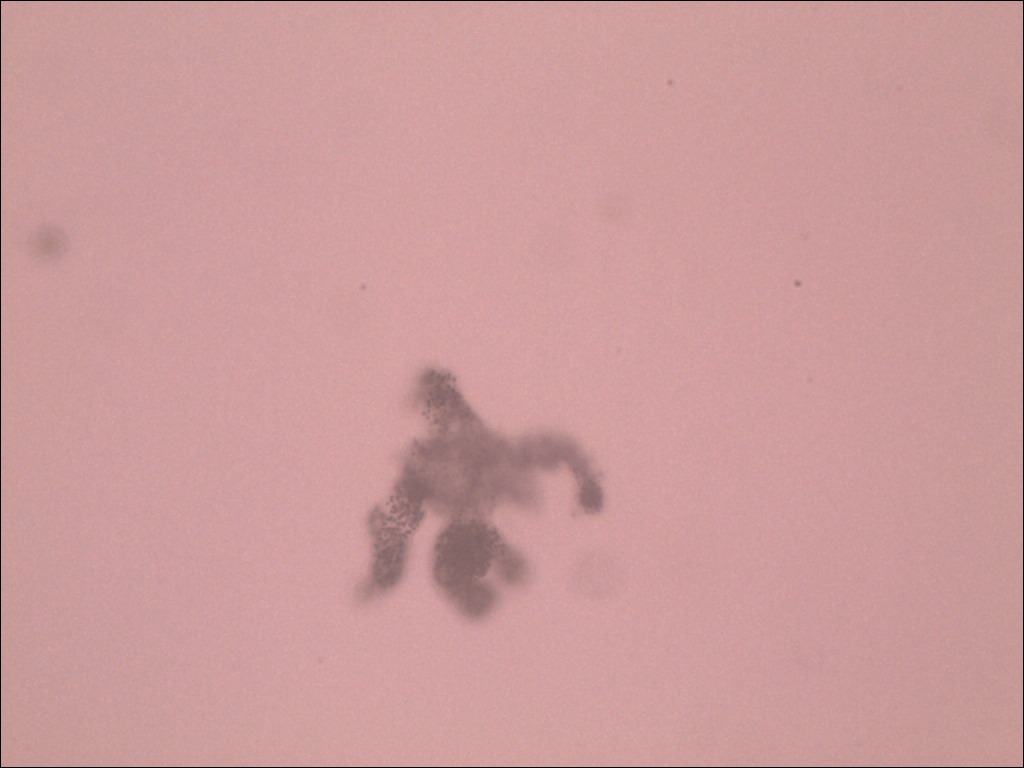amoeba: (344, 358, 618, 632)
